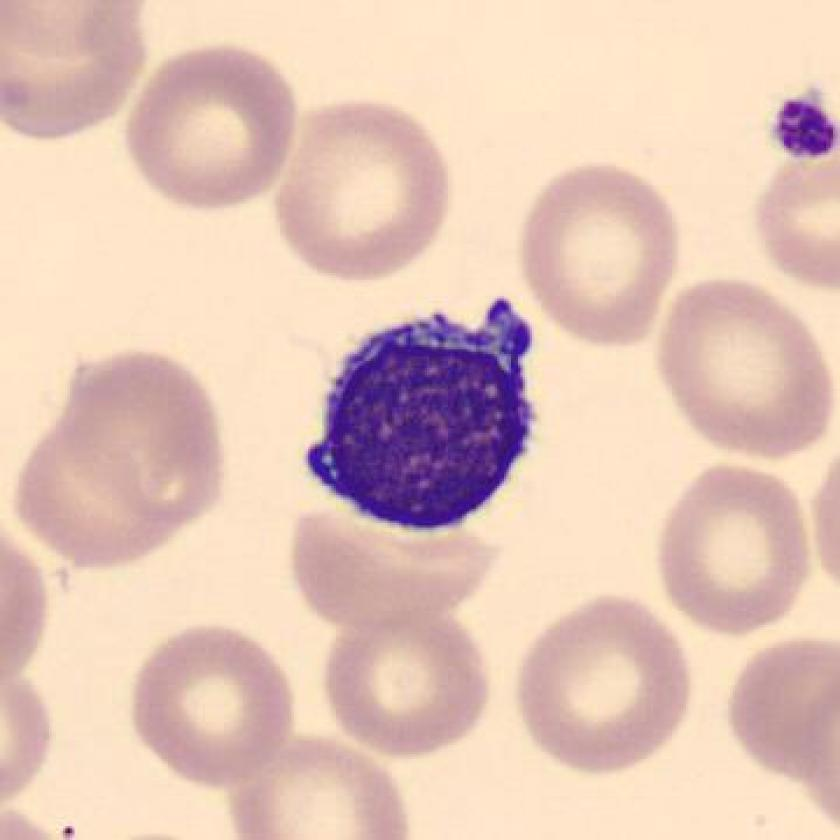lymphocyte: (290, 291, 559, 543)
platelets: (771, 92, 840, 163)
